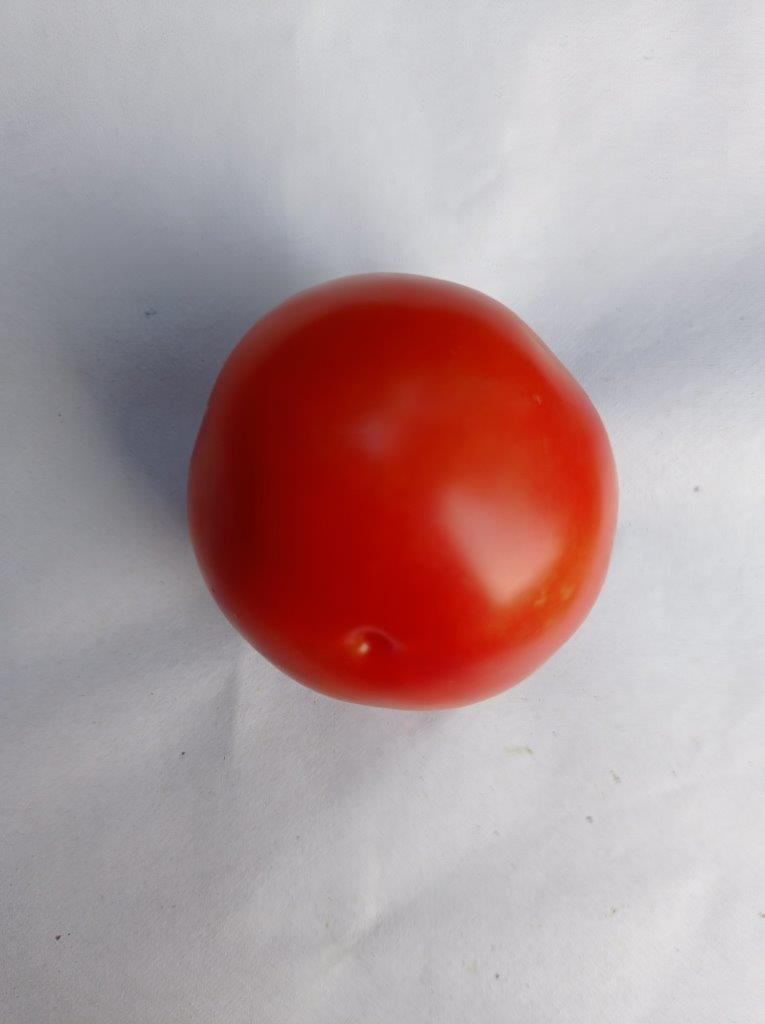tomato: (187, 274, 617, 709)
